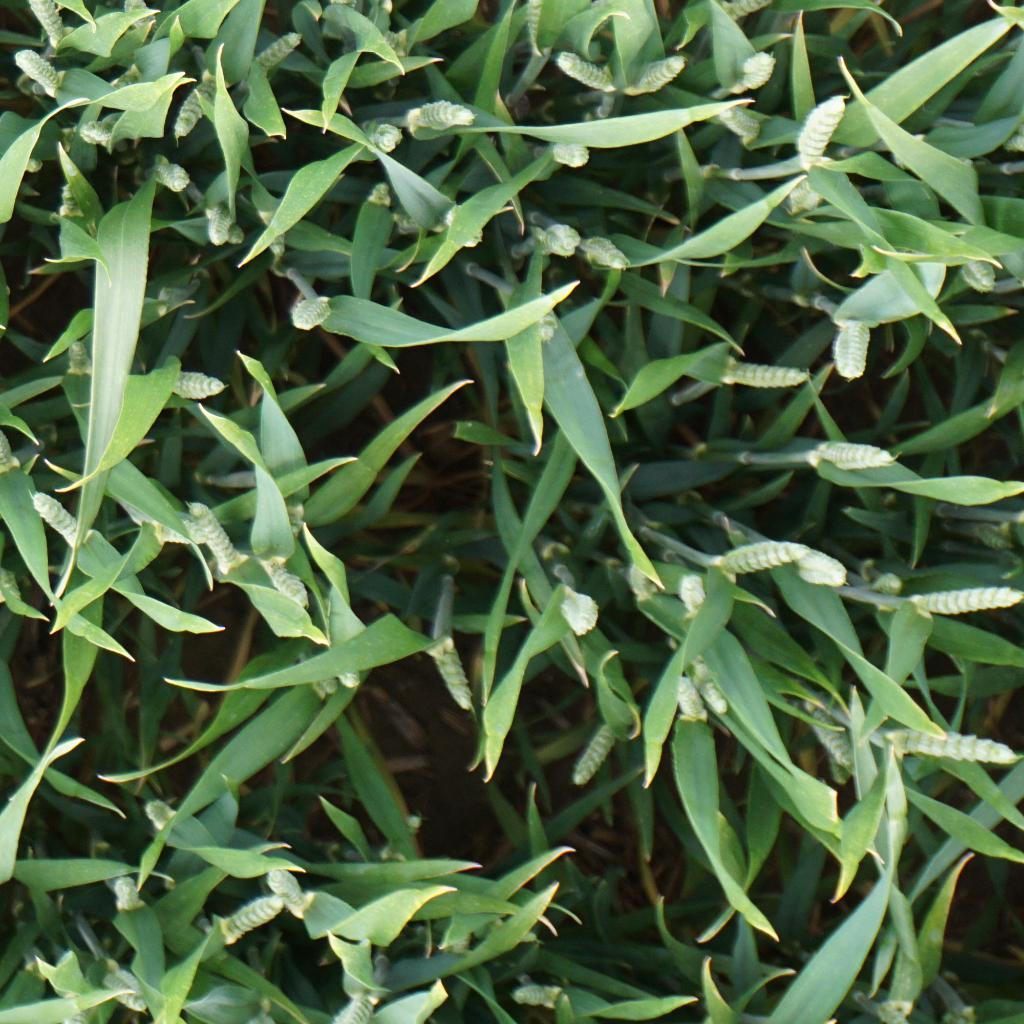0-0: (115, 490, 249, 566), (783, 88, 862, 198), (855, 715, 1024, 766), (25, 475, 102, 561), (183, 496, 258, 583), (700, 531, 818, 585), (134, 353, 245, 410), (636, 659, 711, 741), (790, 690, 865, 769), (891, 577, 1024, 621), (257, 531, 323, 615), (503, 281, 582, 349), (709, 35, 778, 111), (369, 198, 475, 243), (786, 436, 908, 475), (422, 626, 475, 715), (655, 558, 725, 625), (172, 66, 235, 139), (236, 27, 310, 87), (766, 169, 846, 224), (216, 889, 284, 953), (568, 718, 627, 791), (783, 536, 847, 600), (133, 150, 216, 199), (3, 0, 78, 54), (694, 357, 816, 390), (387, 95, 478, 139), (275, 283, 343, 339), (189, 189, 252, 249), (335, 116, 414, 163), (322, 626, 380, 689), (437, 199, 497, 259), (7, 35, 71, 91), (674, 662, 730, 722), (621, 50, 685, 101), (96, 955, 149, 1016), (522, 217, 584, 266), (551, 49, 617, 94), (62, 115, 144, 150), (831, 308, 870, 380), (572, 231, 635, 275), (330, 978, 388, 1024), (708, 104, 767, 148), (558, 581, 600, 640), (542, 131, 599, 172), (264, 866, 313, 913), (508, 977, 572, 1012), (139, 793, 181, 843), (522, 0, 551, 71), (200, 203, 250, 244), (114, 0, 162, 39), (105, 873, 147, 916), (958, 248, 997, 294), (706, 0, 782, 23), (857, 567, 904, 603), (57, 338, 94, 380)
